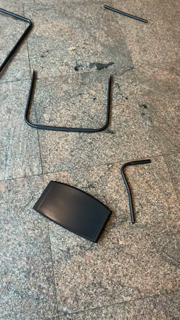Back: (33, 179, 115, 246)
C pipe: (23, 68, 118, 136)
L pipe: (118, 159, 156, 226)
i pipe: (102, 4, 150, 29)
